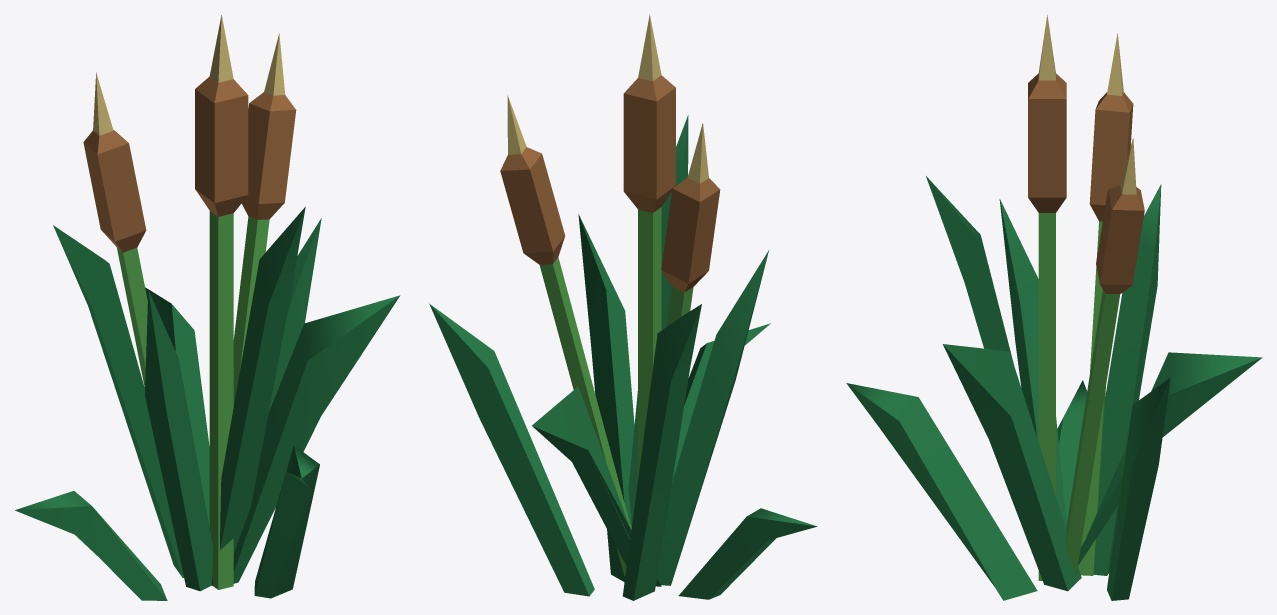
File: SM_Env_Reeds_02-optimized.glb
3 views of the same model, side by side, from view 1: azimuth 30°, elevation 25°; view 2: azimuth 150°, elevation 25°; view 3: azimuth 270°, elevation 25° (orthographic).
Visible parts, largest first — view 1: SM_Env_Reeds_02; view 2: SM_Env_Reeds_02; view 3: SM_Env_Reeds_02.
Part boxes in pixels (x1,y1,x2,y2): SM_Env_Reeds_02: (15,15,400,600); SM_Env_Reeds_02: (429,14,817,600); SM_Env_Reeds_02: (846,15,1262,600).
Bounding box in the file's own units: 0.889 × 1.38 × 0.9242.
1 material, 1 textured.
